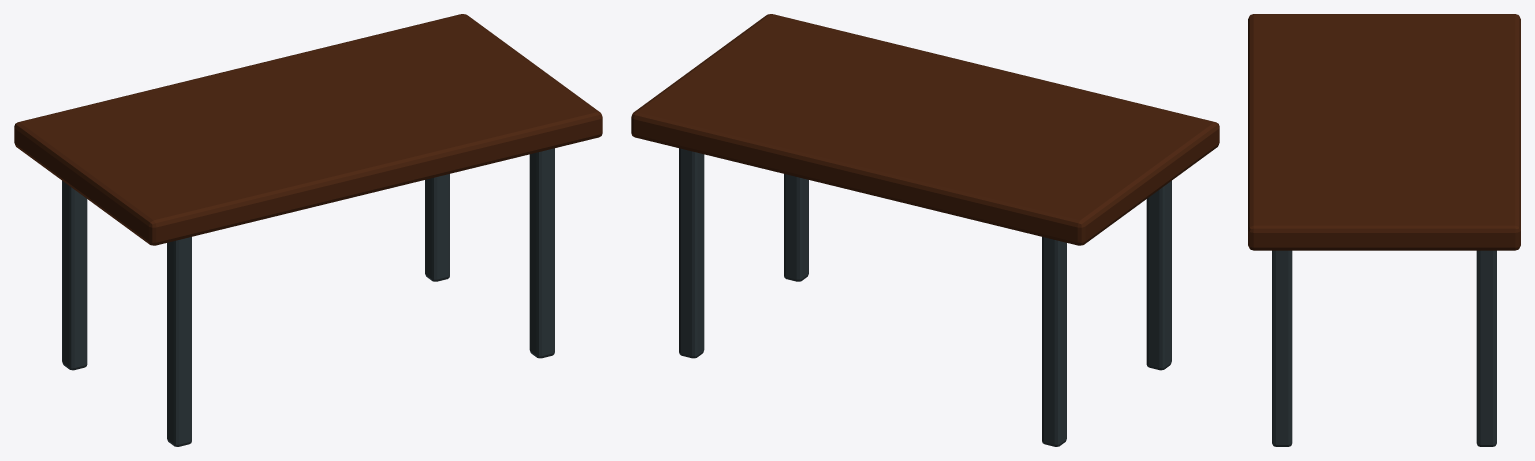
The model's file is Table.fbx.
The picture shows the model from 3 angles, left to right: view 1: azimuth 30°, elevation 25°; view 2: azimuth 150°, elevation 25°; view 3: azimuth 270°, elevation 25°; orthographic projection. The views are drawn at different scales.
Parts seen in each view (by area): view 1: Table; view 2: Table; view 3: Table.
Boxes of the visible parts, x1,y1,x2,y2 form: Table: (14,14,602,446); Table: (631,14,1219,446); Table: (1248,14,1520,446).
Size of the model in its own units: 150 by 80 by 77.
